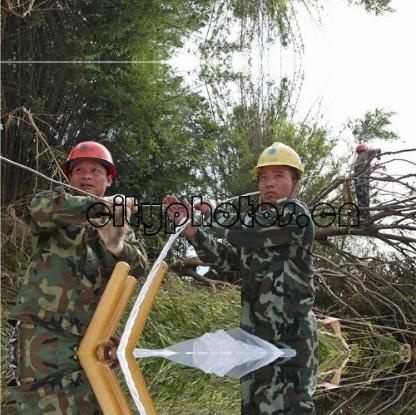Safety Helmet: (248, 138, 313, 204), (60, 135, 123, 197)
